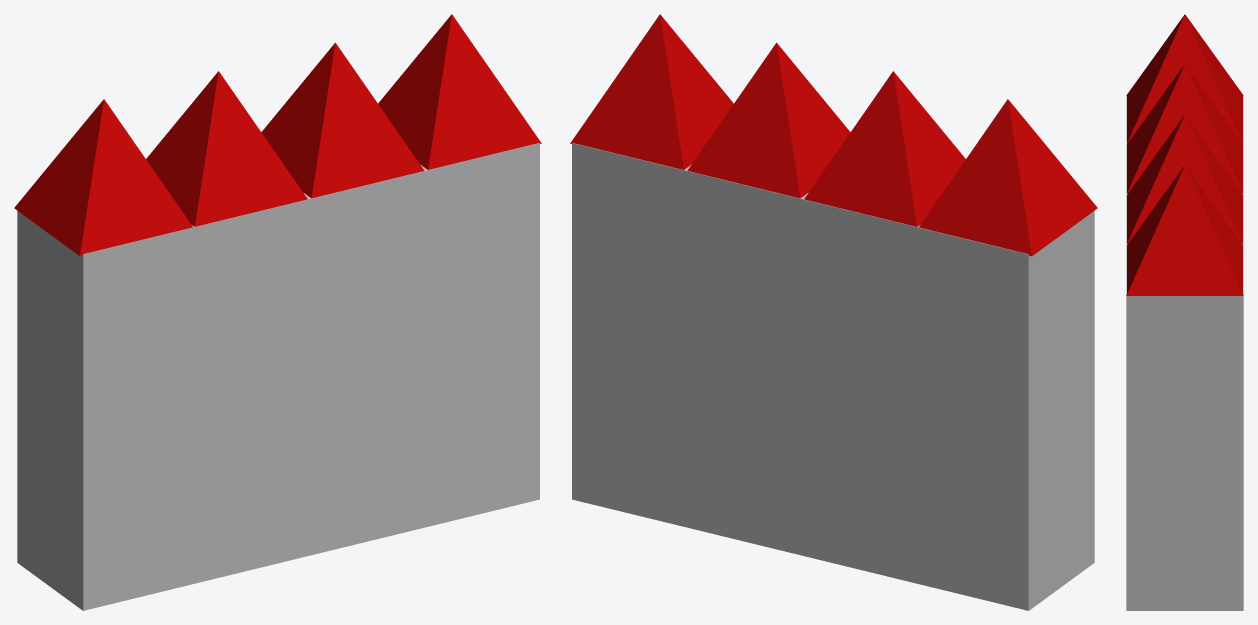
The model's file is wallBlade.fbx.
3 renders of one model, left to right at view 1: azimuth 30°, elevation 25°; view 2: azimuth 150°, elevation 25°; view 3: azimuth 270°, elevation 25°, orthographic. The views are drawn at different scales.
Parts seen in each view (by area): view 1: wall, blade; view 2: wall, blade; view 3: wall, blade.
Boxes of the visible parts, x1,y1,x2,y2 form: wall: (17,143,539,610); blade: (14,14,541,256); wall: (572,143,1094,610); blade: (570,14,1097,256); wall: (1126,96,1243,610); blade: (1126,14,1243,295).
Size of the model in its own units: 809 by 795 by 200.
